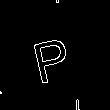P_N: (31, 26, 79, 84)
